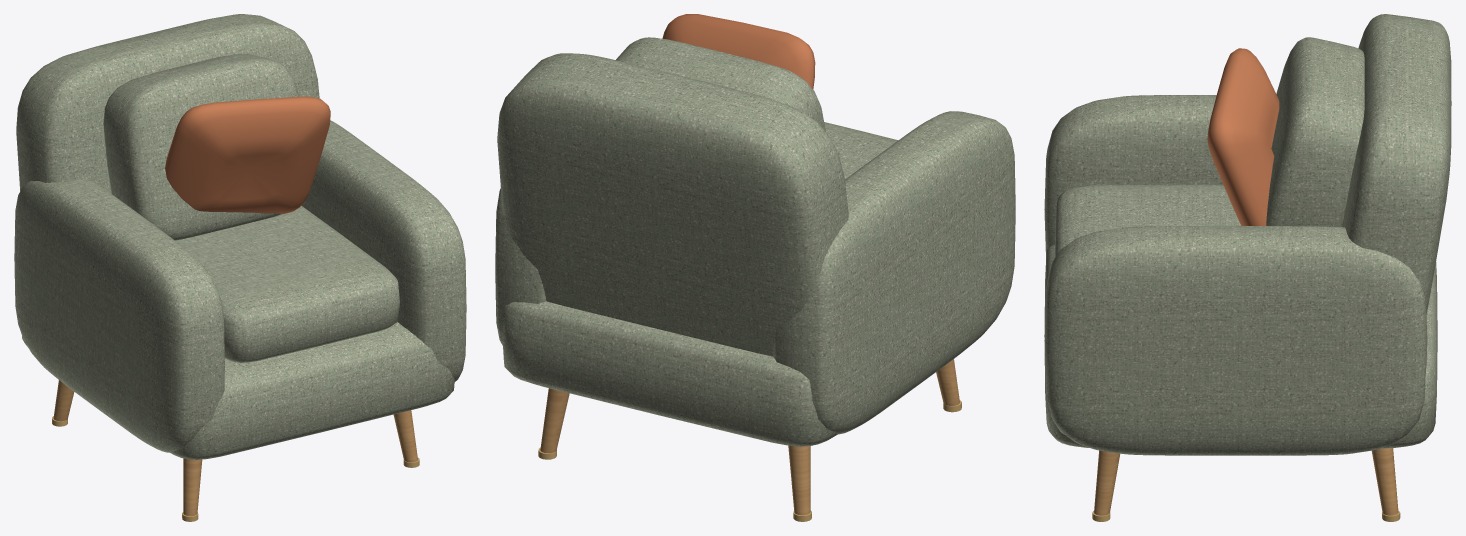
File: armchair.glb
3 renders of one model, left to right at view 1: azimuth 30°, elevation 25°; view 2: azimuth 150°, elevation 25°; view 3: azimuth 270°, elevation 25°, orthographic. The views are drawn at different scales.
Parts seen in each view (by area): view 1: armchair_arms, armchair_seat_cushion, armchair_base, armchair_back, armchair_back_cushion, armchair_pillow, armchair_legs; view 2: armchair_back, armchair_arms, armchair_base, armchair_back_cushion, armchair_pillow, armchair_legs, armchair_seat_cushion; view 3: armchair_arms, armchair_back, armchair_back_cushion, armchair_pillow, armchair_seat_cushion, armchair_base, armchair_legs.
Part boxes in pixels (x1,y1,x2,y2): armchair_arms: (14,120,466,452); armchair_seat_cushion: (175,206,399,362); armchair_base: (22,322,454,459); armchair_back: (16,14,319,193); armchair_back_cushion: (103,53,298,240); armchair_pillow: (165,96,330,214); armchair_legs: (52,380,419,521); armchair_back: (497,53,848,356); armchair_arms: (495,111,1015,434); armchair_base: (502,301,838,446); armchair_back_cushion: (616,37,825,131); armchair_pillow: (662,14,815,89); armchair_legs: (538,359,961,521); armchair_seat_cushion: (824,122,897,179); armchair_arms: (1044,95,1427,455); armchair_back: (1342,14,1451,314); armchair_back_cushion: (1266,37,1364,226); armchair_pillow: (1207,48,1279,225); armchair_seat_cushion: (1055,184,1241,257); armchair_base: (1044,245,1437,448); armchair_legs: (1092,448,1400,521).
Bounding box in the file's own units: 0.75 × 0.8413 × 0.7867.
Materials: 4 (2 with a texture image).
